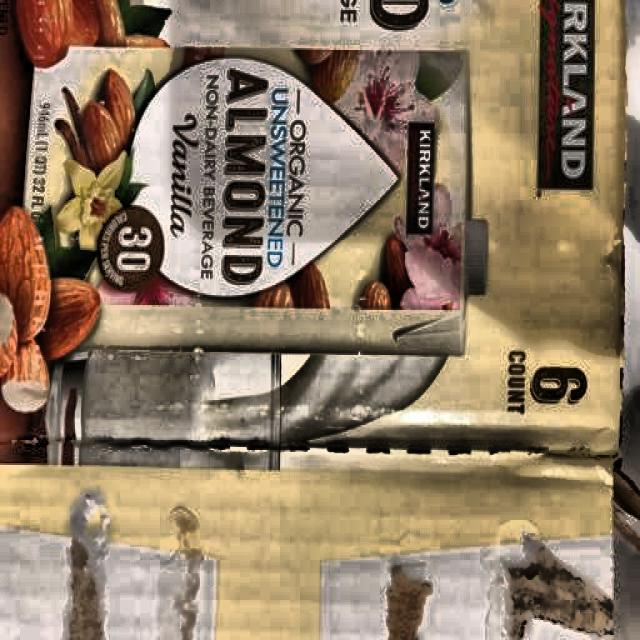cardboard: (5, 10, 634, 634)
